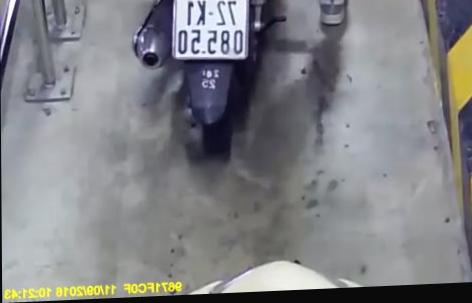License_Plate: (167, 0, 255, 67)
